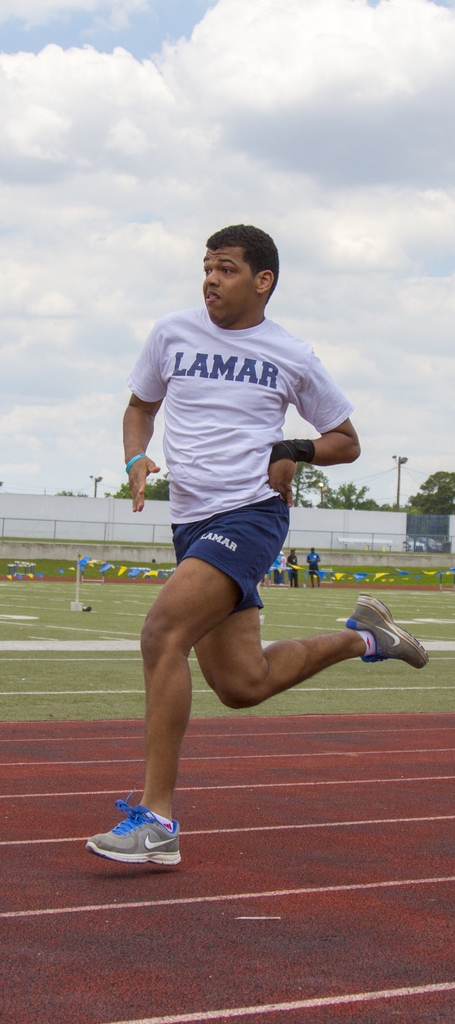Person: (309, 547, 321, 583), (288, 547, 298, 586), (271, 552, 281, 581)
